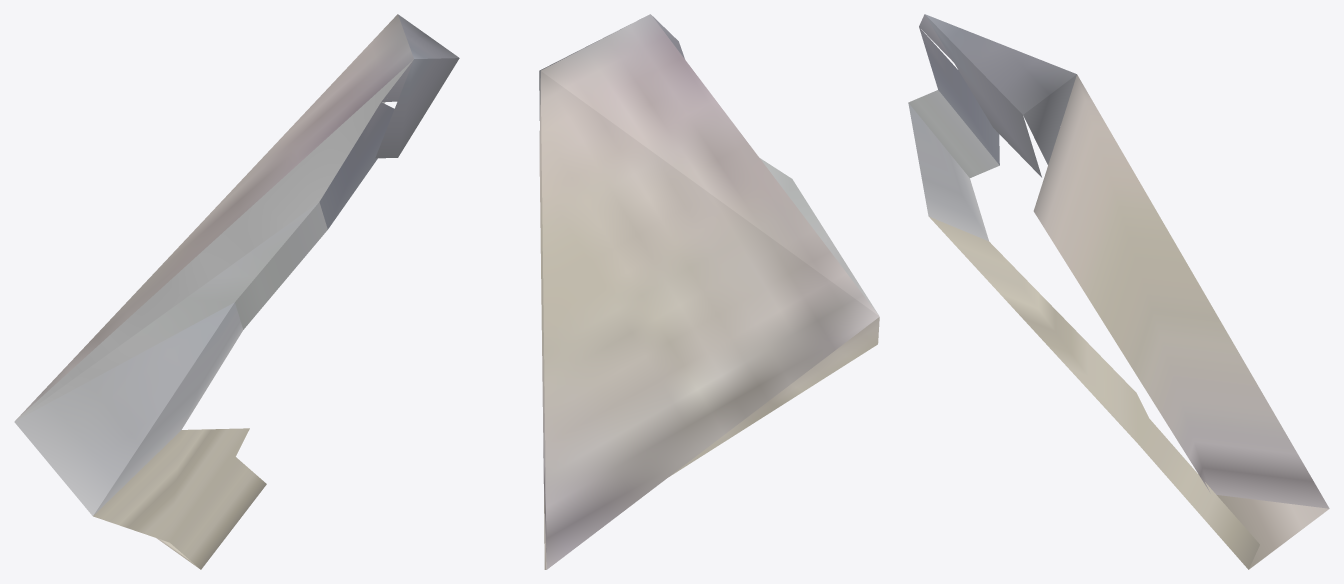
The picture shows the model from 3 angles, left to right: view 1: azimuth 30°, elevation 25°; view 2: azimuth 150°, elevation 25°; view 3: azimuth 270°, elevation 25°; orthographic projection. The views are drawn at different scales.
Size of the model in its own units: 8.43 by 11.12 by 7.45.
1 material, 1 textured.
